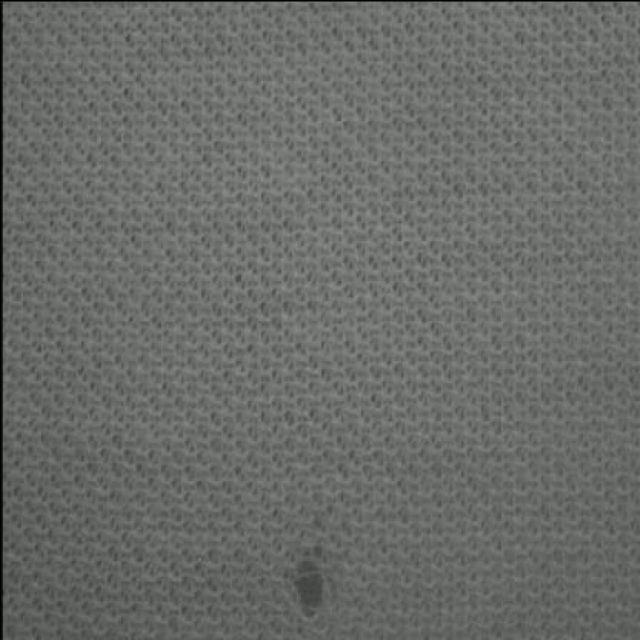Hole: (294, 548, 325, 619)
